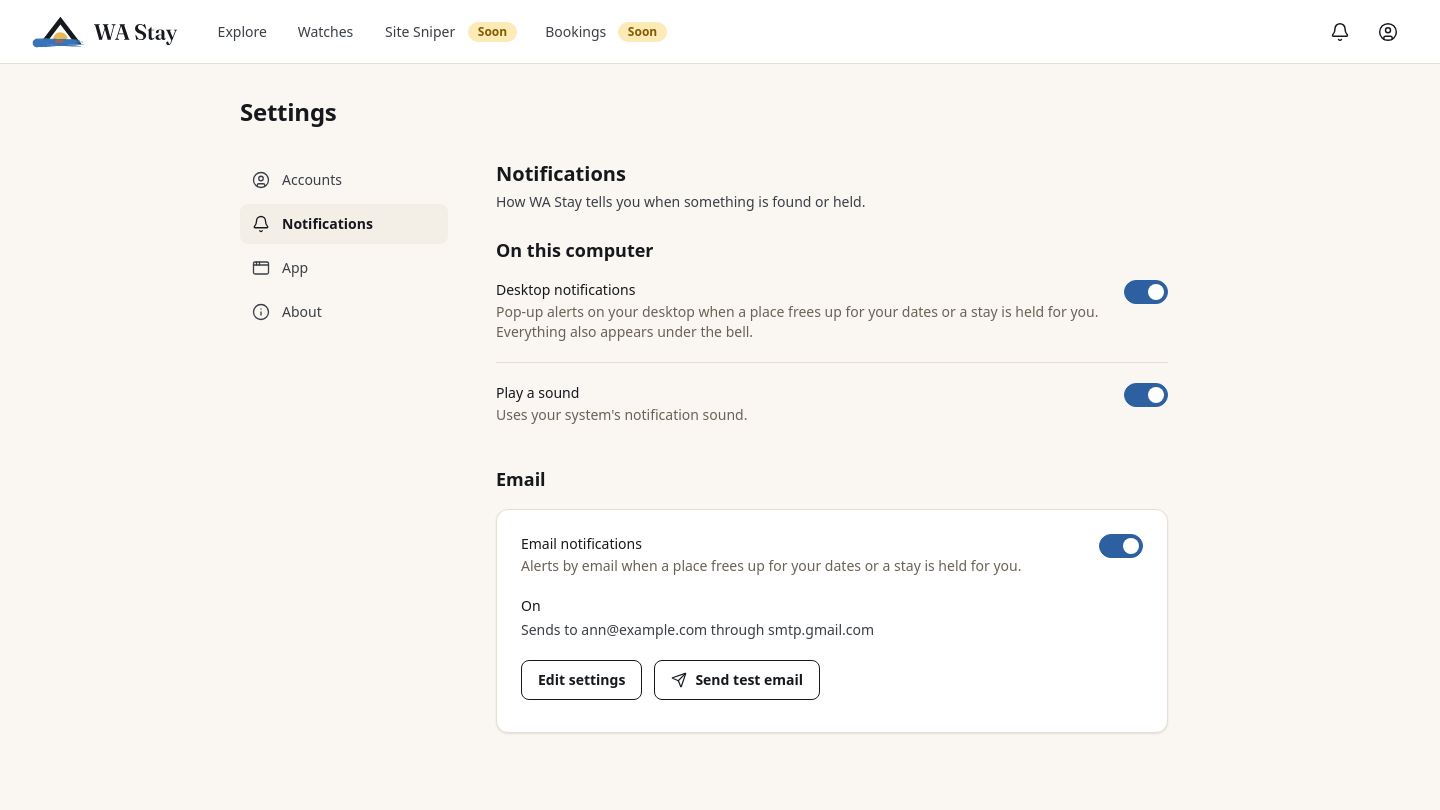
it: EmailNotifierCard: test email and on/off › with unsaved changes the button reads "Save and send test": it saves, then tests
Click the button "Edit settings" at (582, 680), box [521,660,642,700]
(page scrolled)
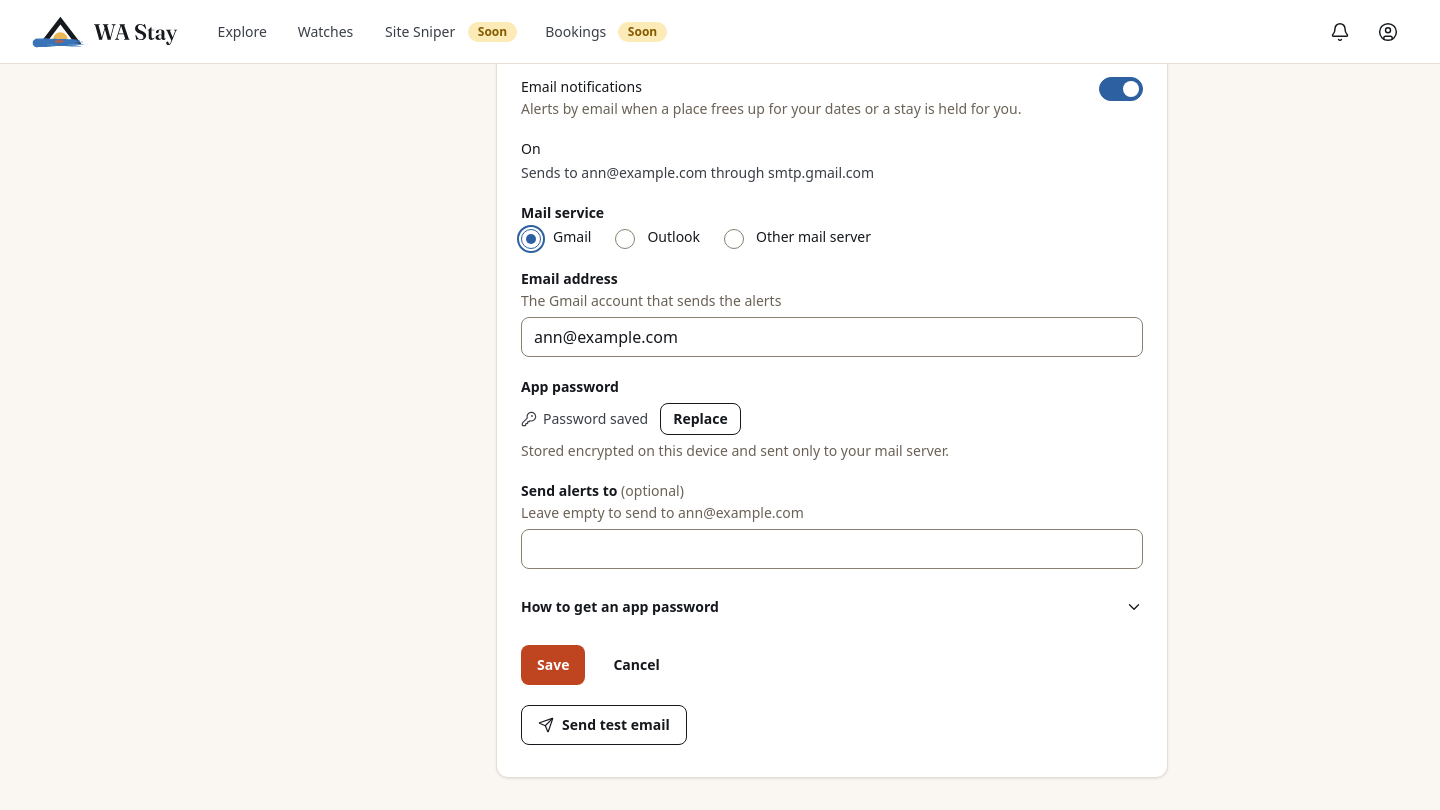
Check: the button "Send test email" is shown, box [521,705,687,745]
Type "me@x.au" into the field labelled "Send alerts to (optional)" at (832, 549), box [521,529,1143,569]
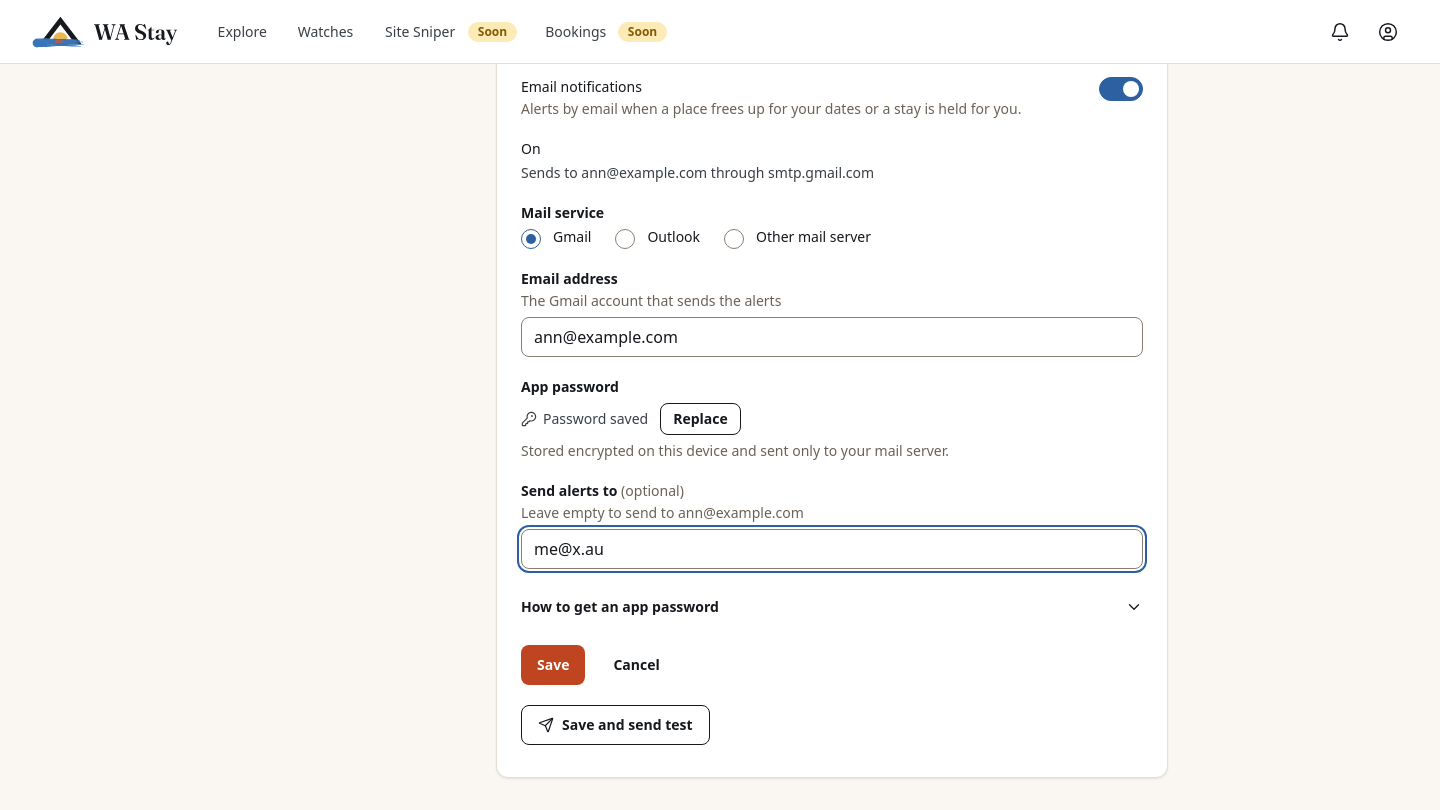
Click the button "Save and send test" at (615, 725), box [521,705,710,745]
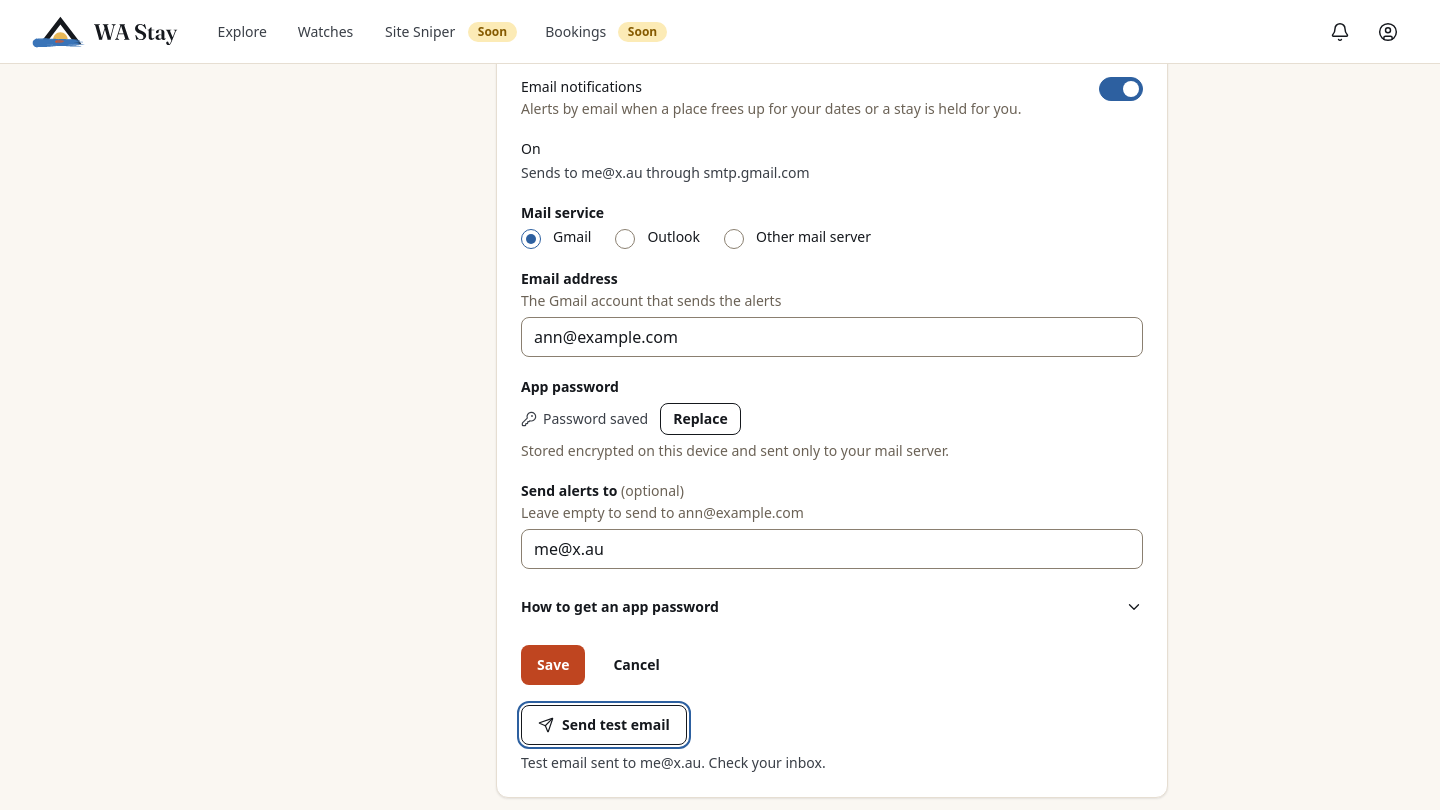
Check: the text "Test email sent to me@x.au. Check your inbox." is shown, box [521,753,826,772]
